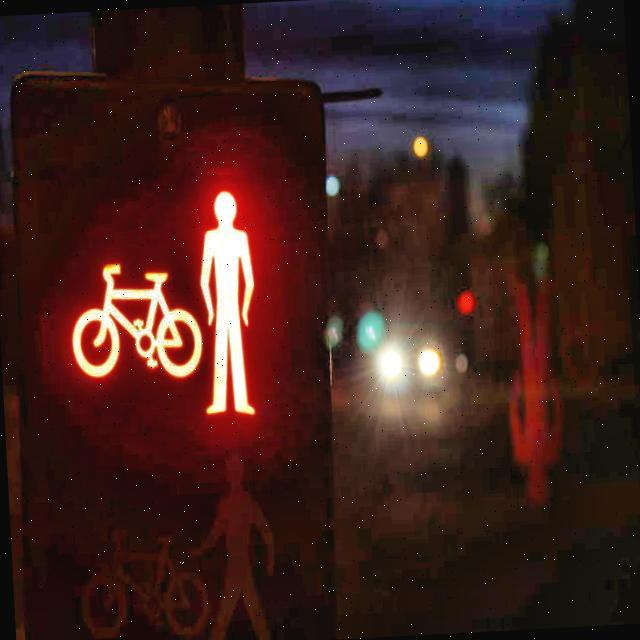red_light: (194, 178, 263, 426)
